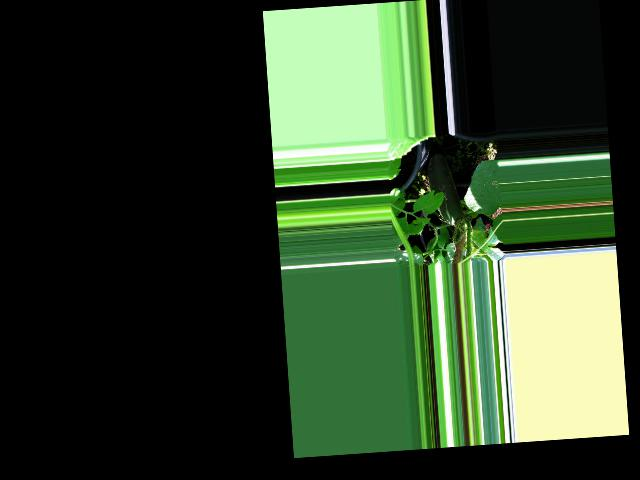cucumber: (426, 152, 464, 227)
